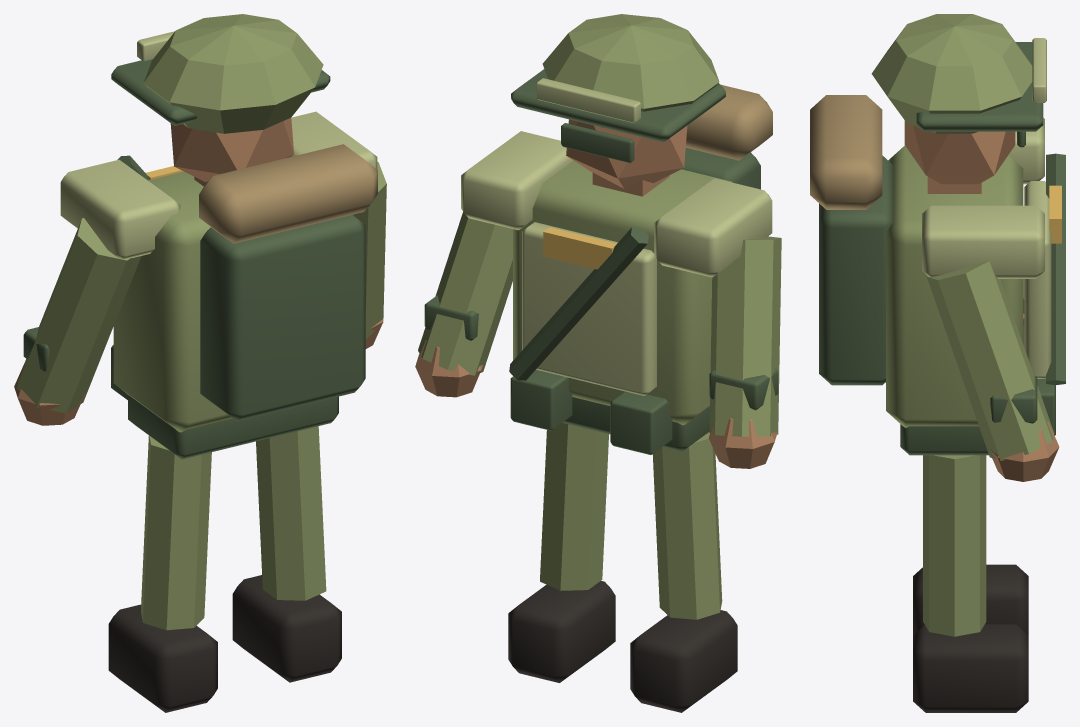
Rendered from hero.fbx.
3 views of the same model, side by side, from view 1: azimuth 30°, elevation 25°; view 2: azimuth 150°, elevation 25°; view 3: azimuth 270°, elevation 25° (orthographic).
Parts seen in each view (by area): view 1: backpack, torso tunic, soft helmet, rolled kit over backpack, L arm, L shin, R shin, L boot, R boot, hero shoulder yoke, belt, head (+6 smaller); view 2: torso tunic, front webbing, soft helmet, L arm, L shin, R shin, R arm, L boot, R boot, hero shoulder yoke, hero shoulder yoke.001, diagonal front strap (+15 smaller); view 3: torso tunic, soft helmet, backpack, R arm, R shin, R boot, hero shoulder yoke.001, rolled kit over backpack, head, front webbing, helmet brim, L boot (+9 smaller).
Part boxes in pixels (bbox=[...]): backpack: bbox=[200, 215, 365, 421]; torso tunic: bbox=[113, 171, 353, 432]; soft helmet: bbox=[143, 14, 323, 133]; rolled kit over backpack: bbox=[199, 144, 377, 243]; L arm: bbox=[16, 218, 141, 413]; L shin: bbox=[141, 435, 211, 630]; R shin: bbox=[256, 426, 326, 600]; L boot: bbox=[108, 604, 217, 712]; R boot: bbox=[232, 575, 341, 682]; hero shoulder yoke: bbox=[60, 159, 180, 259]; belt: bbox=[128, 395, 338, 459]; head: bbox=[170, 118, 293, 181]; torso tunic: bbox=[513, 160, 732, 425]; front webbing: bbox=[522, 222, 656, 395]; soft helmet: bbox=[542, 14, 719, 127]; L arm: bbox=[709, 236, 781, 436]; L shin: bbox=[652, 432, 722, 619]; R shin: bbox=[540, 422, 608, 590]; R arm: bbox=[418, 212, 512, 375]; L boot: bbox=[630, 610, 737, 712]; R boot: bbox=[508, 581, 615, 682]; hero shoulder yoke: bbox=[654, 178, 772, 277]; hero shoulder yoke.001: bbox=[461, 131, 572, 230]; diagonal front strap: bbox=[509, 227, 648, 380]; torso tunic: bbox=[886, 145, 1023, 427]; soft helmet: bbox=[871, 14, 1032, 133]; backpack: bbox=[819, 155, 893, 385]; R arm: bbox=[926, 260, 1054, 460]; R shin: bbox=[923, 455, 986, 636]; R boot: bbox=[913, 624, 1028, 712]; hero shoulder yoke.001: bbox=[922, 205, 1044, 278]; rolled kit over backpack: bbox=[810, 95, 882, 209]; head: bbox=[904, 120, 1015, 184]; front webbing: bbox=[1024, 181, 1051, 378]; helmet brim: bbox=[916, 42, 1043, 131]; L boot: bbox=[913, 564, 1028, 635].
Bounding box in the file's own units: 114 × 198 × 70.77.
